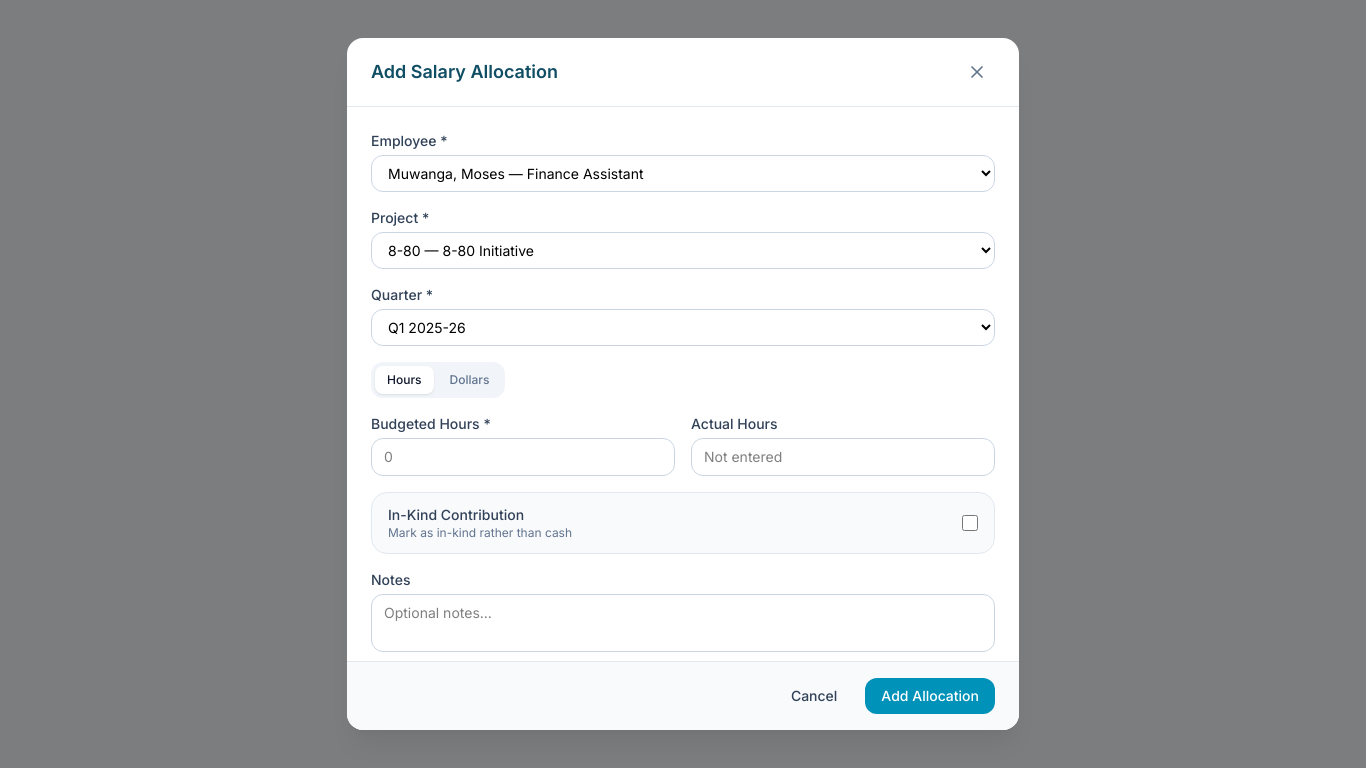
AllocationFormModal › shows duplicate error when checkDuplicate returns true
// Fill required hours
Type "100" into the number field with placeholder "0" at (523, 457), box [371, 438, 675, 476]
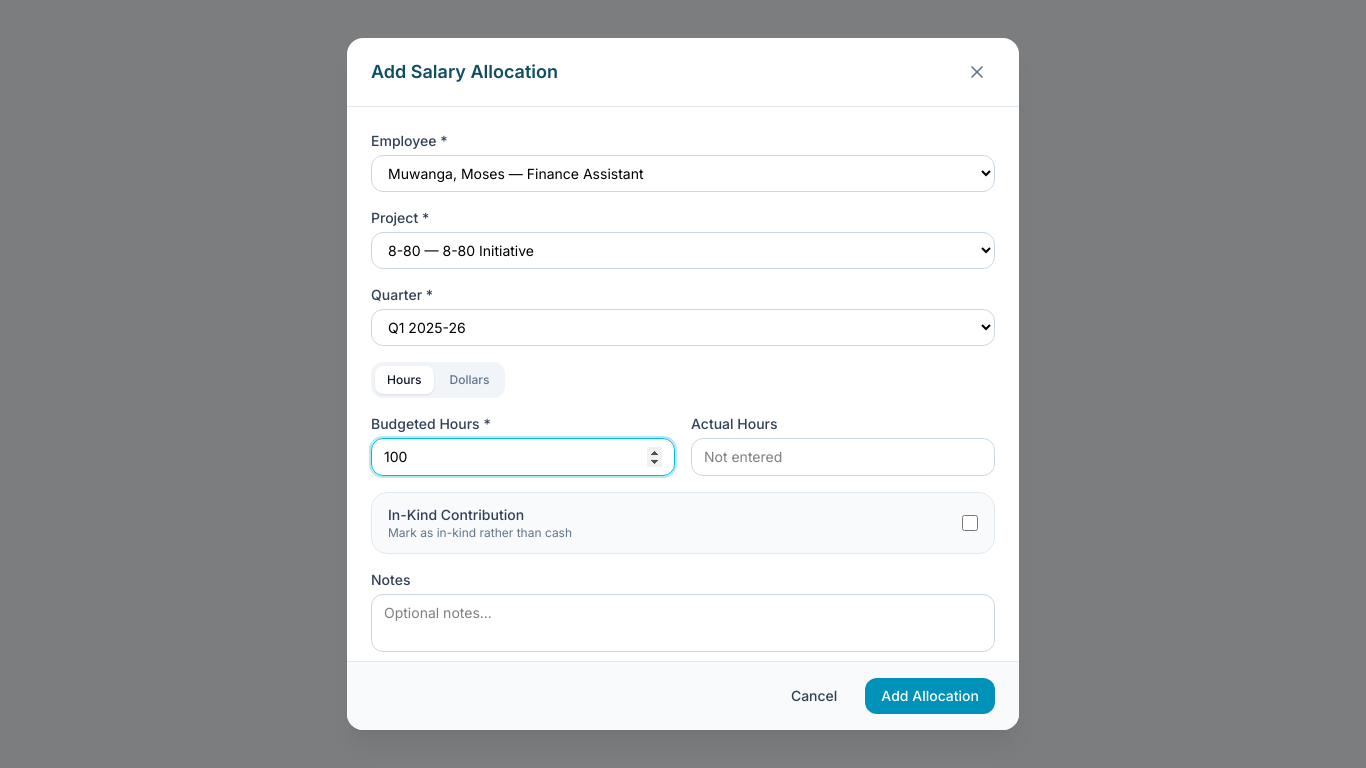
Click the button "Add Allocation" at (930, 696), box [865, 678, 995, 714]
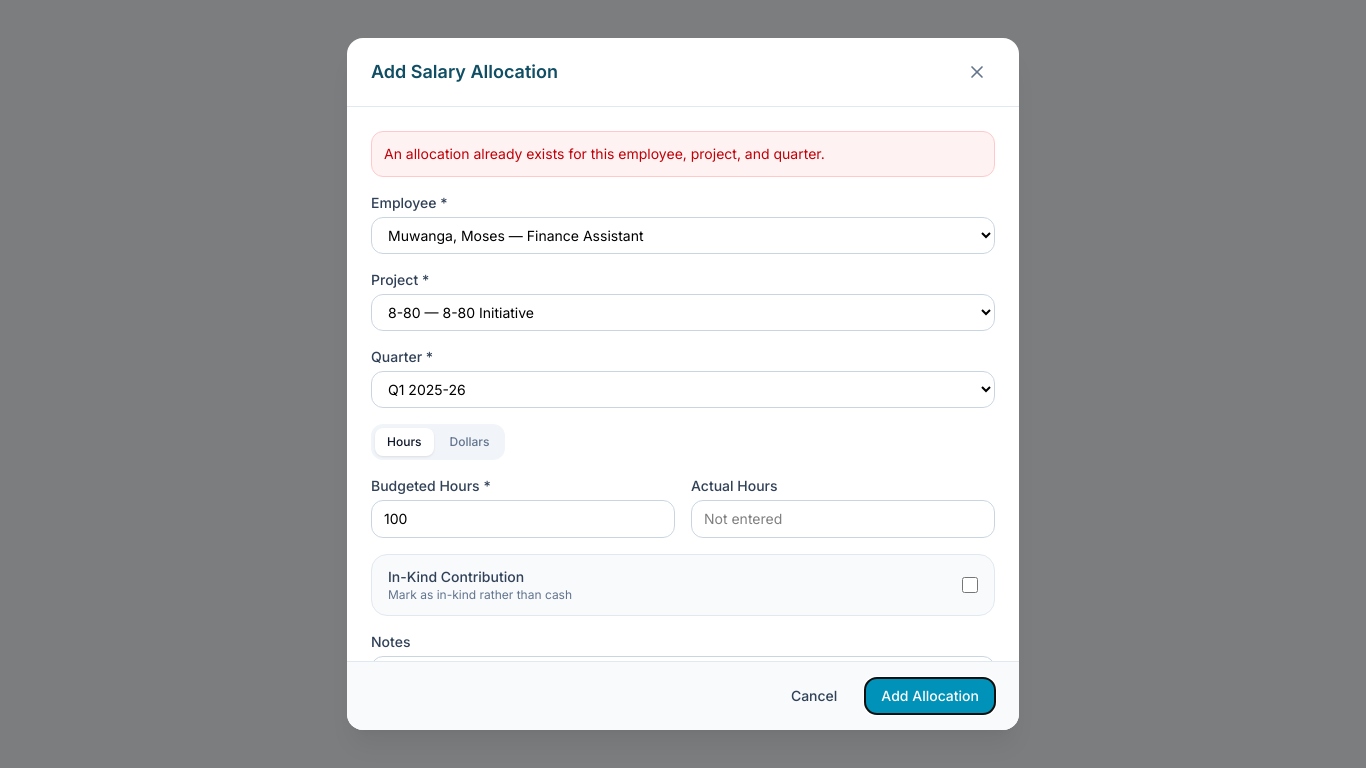
Result: the text "allocation already exists" is shown at [384, 145, 825, 162]
